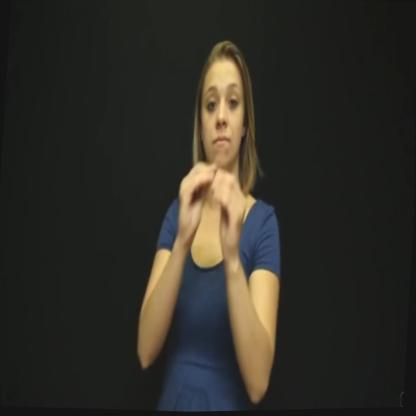Fix: (169, 152, 261, 272)
